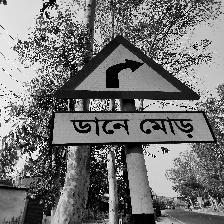Right-turn: (50, 35, 213, 146)
